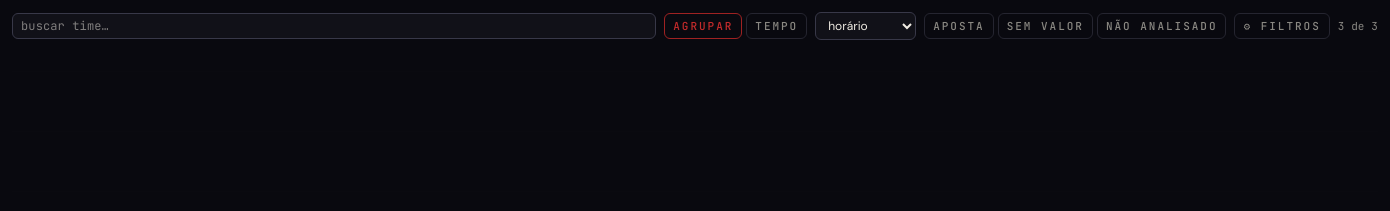
it: <FixturesBrowser> › empty-state quando os filtros excluem tudo
Type "zzzznada" into the search field labelled "buscar time…" at coordinates (334, 26), box [12,13,656,39]
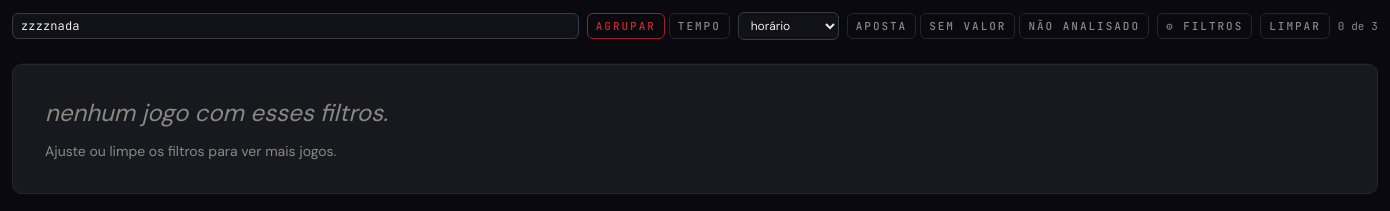
Expected: the text "nenhum jogo com esses filtros." is shown, [45,97,388,129]
